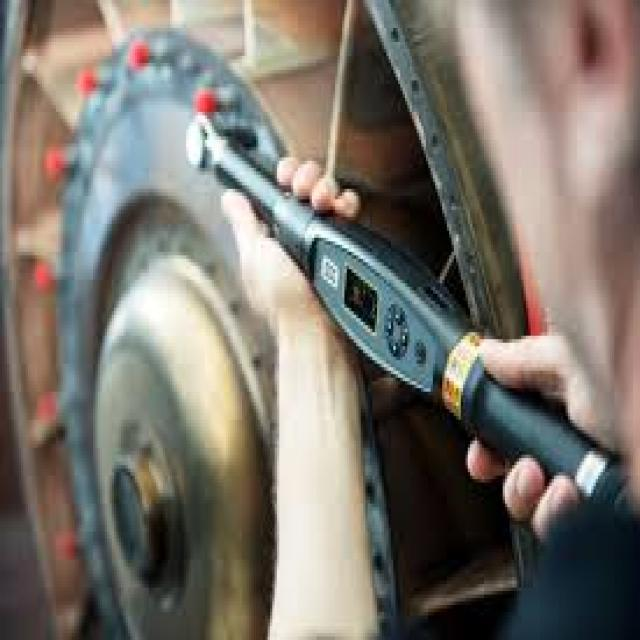wrench: (178, 103, 578, 481)
